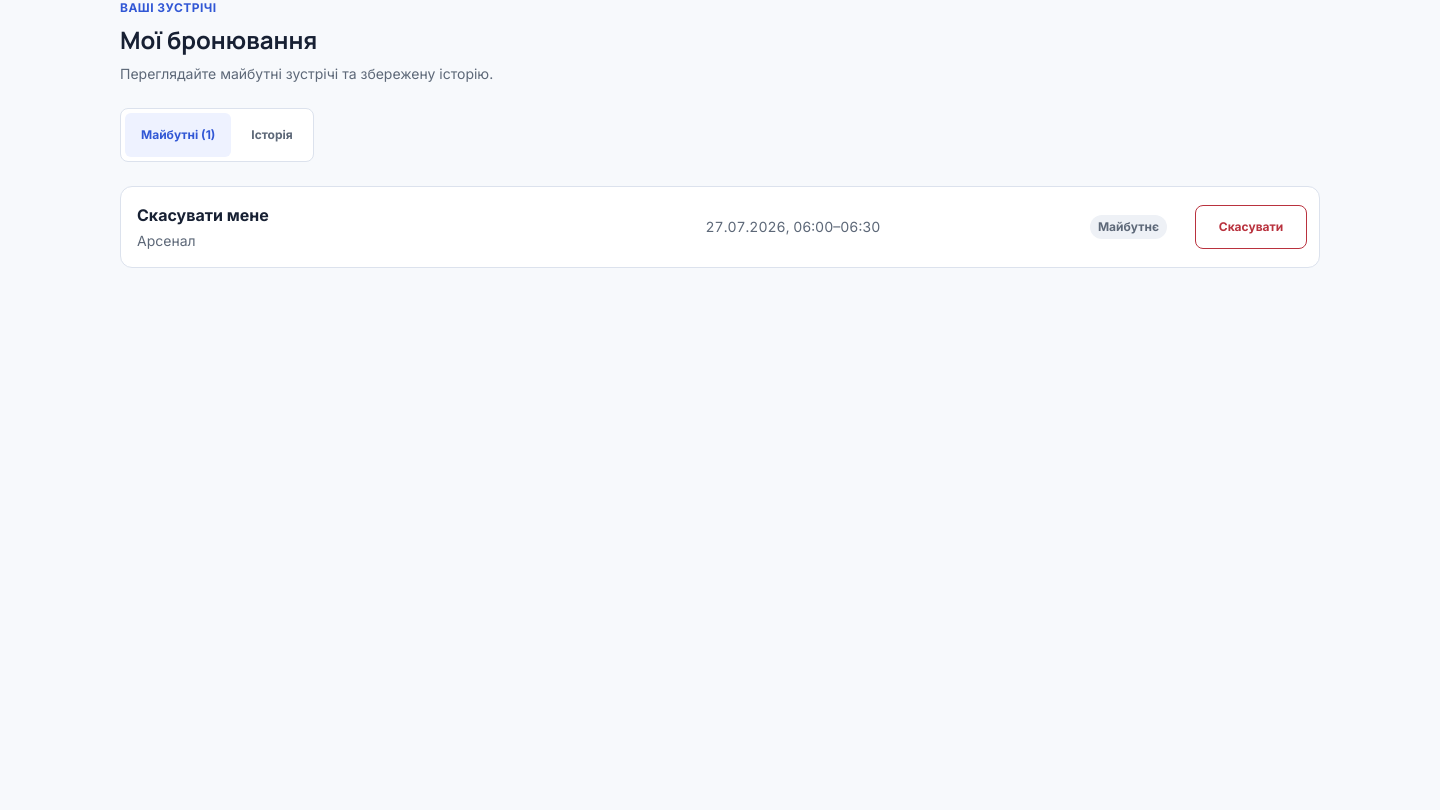
MyBookingsPage › cancels once, refreshes server data, and moves focus to the updated panel
Click the button with aria-label "Скасувати бронювання «Скасувати мене»". click: (1251, 227)
box: [1195,205,1307,249]
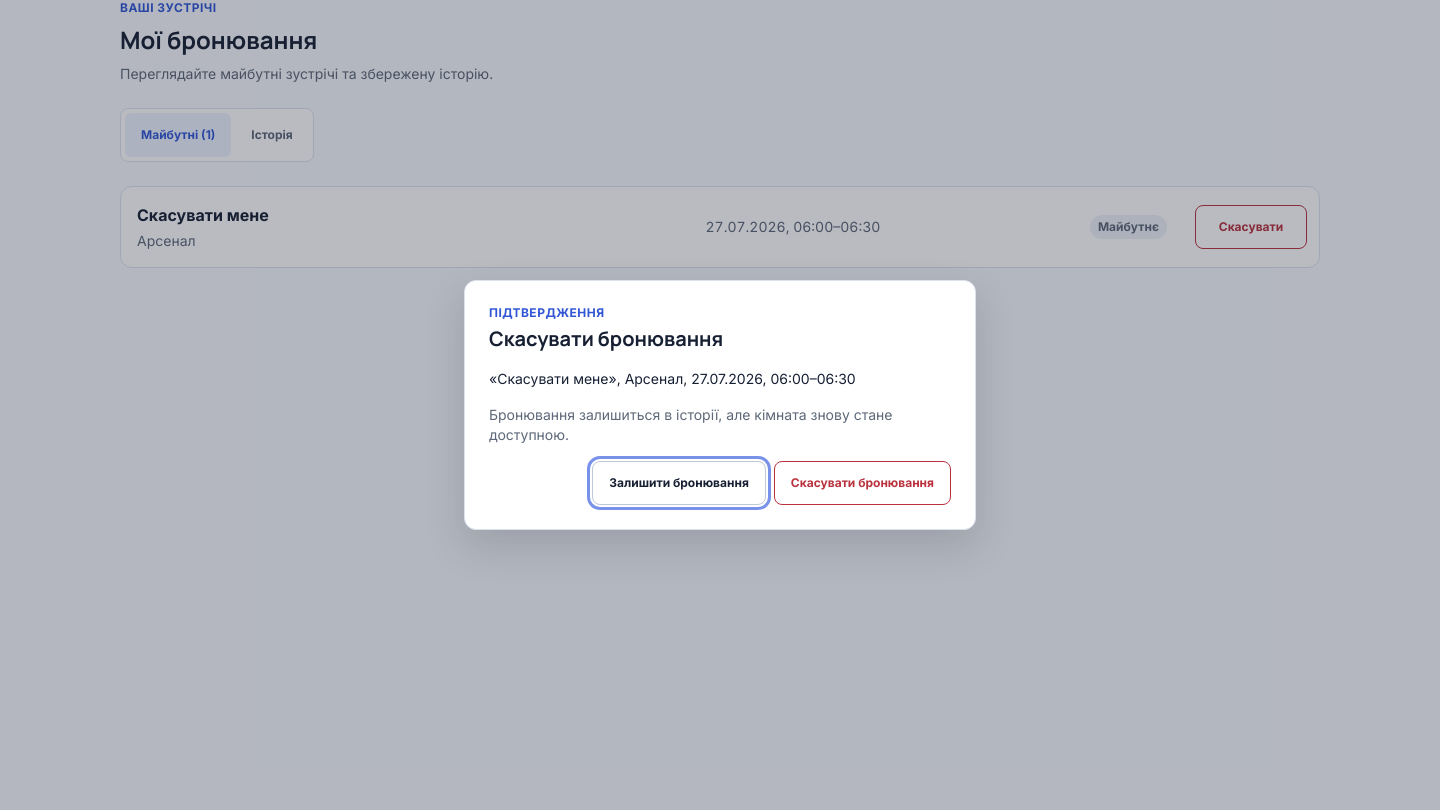
Click the button "Скасувати бронювання". click: (862, 483)
box: [774,461,951,505]
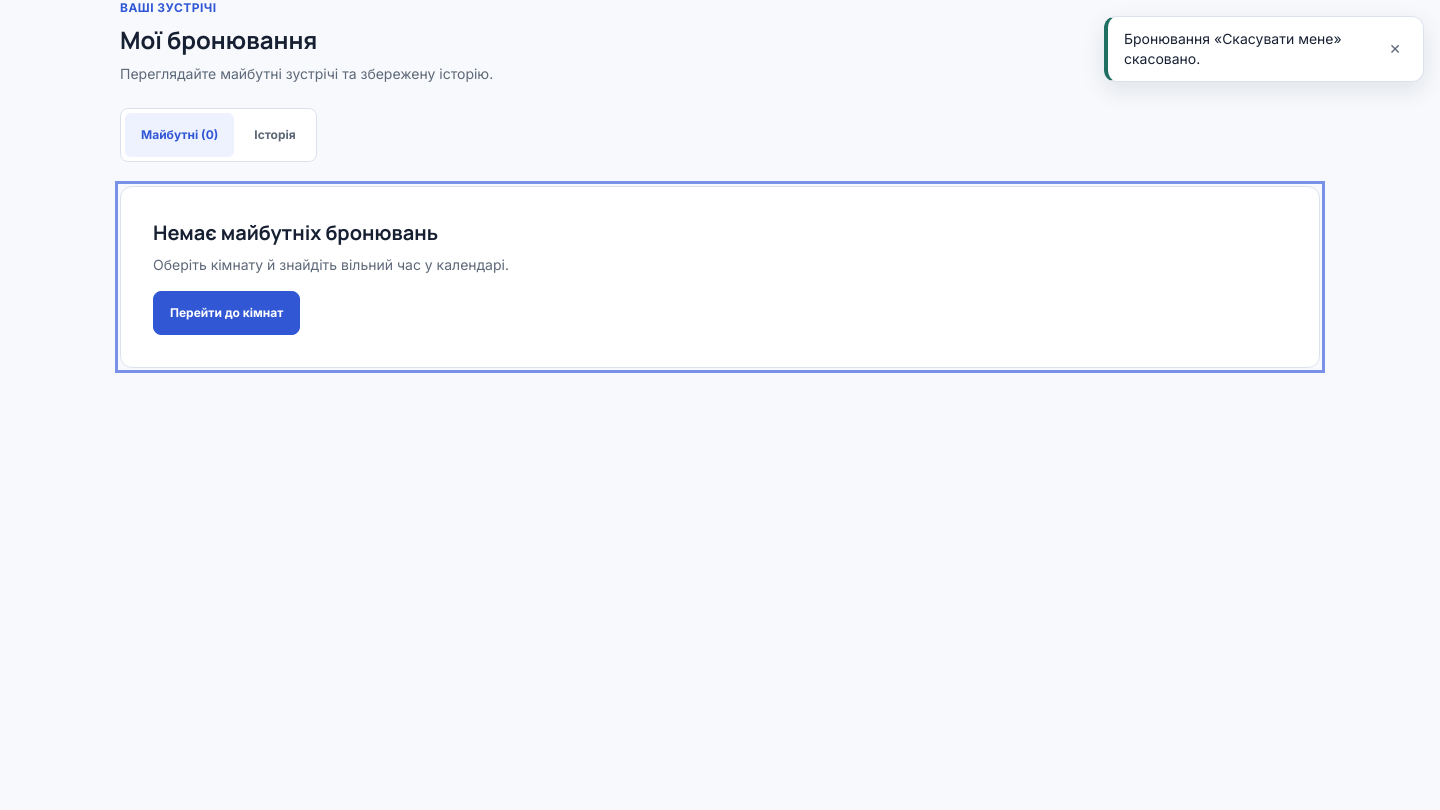
Check: the heading "Скасувати бронювання" is gone
Check: the message shows "Бронювання «Скасувати мене» скасовано.", box [1124,30,1342,67]
